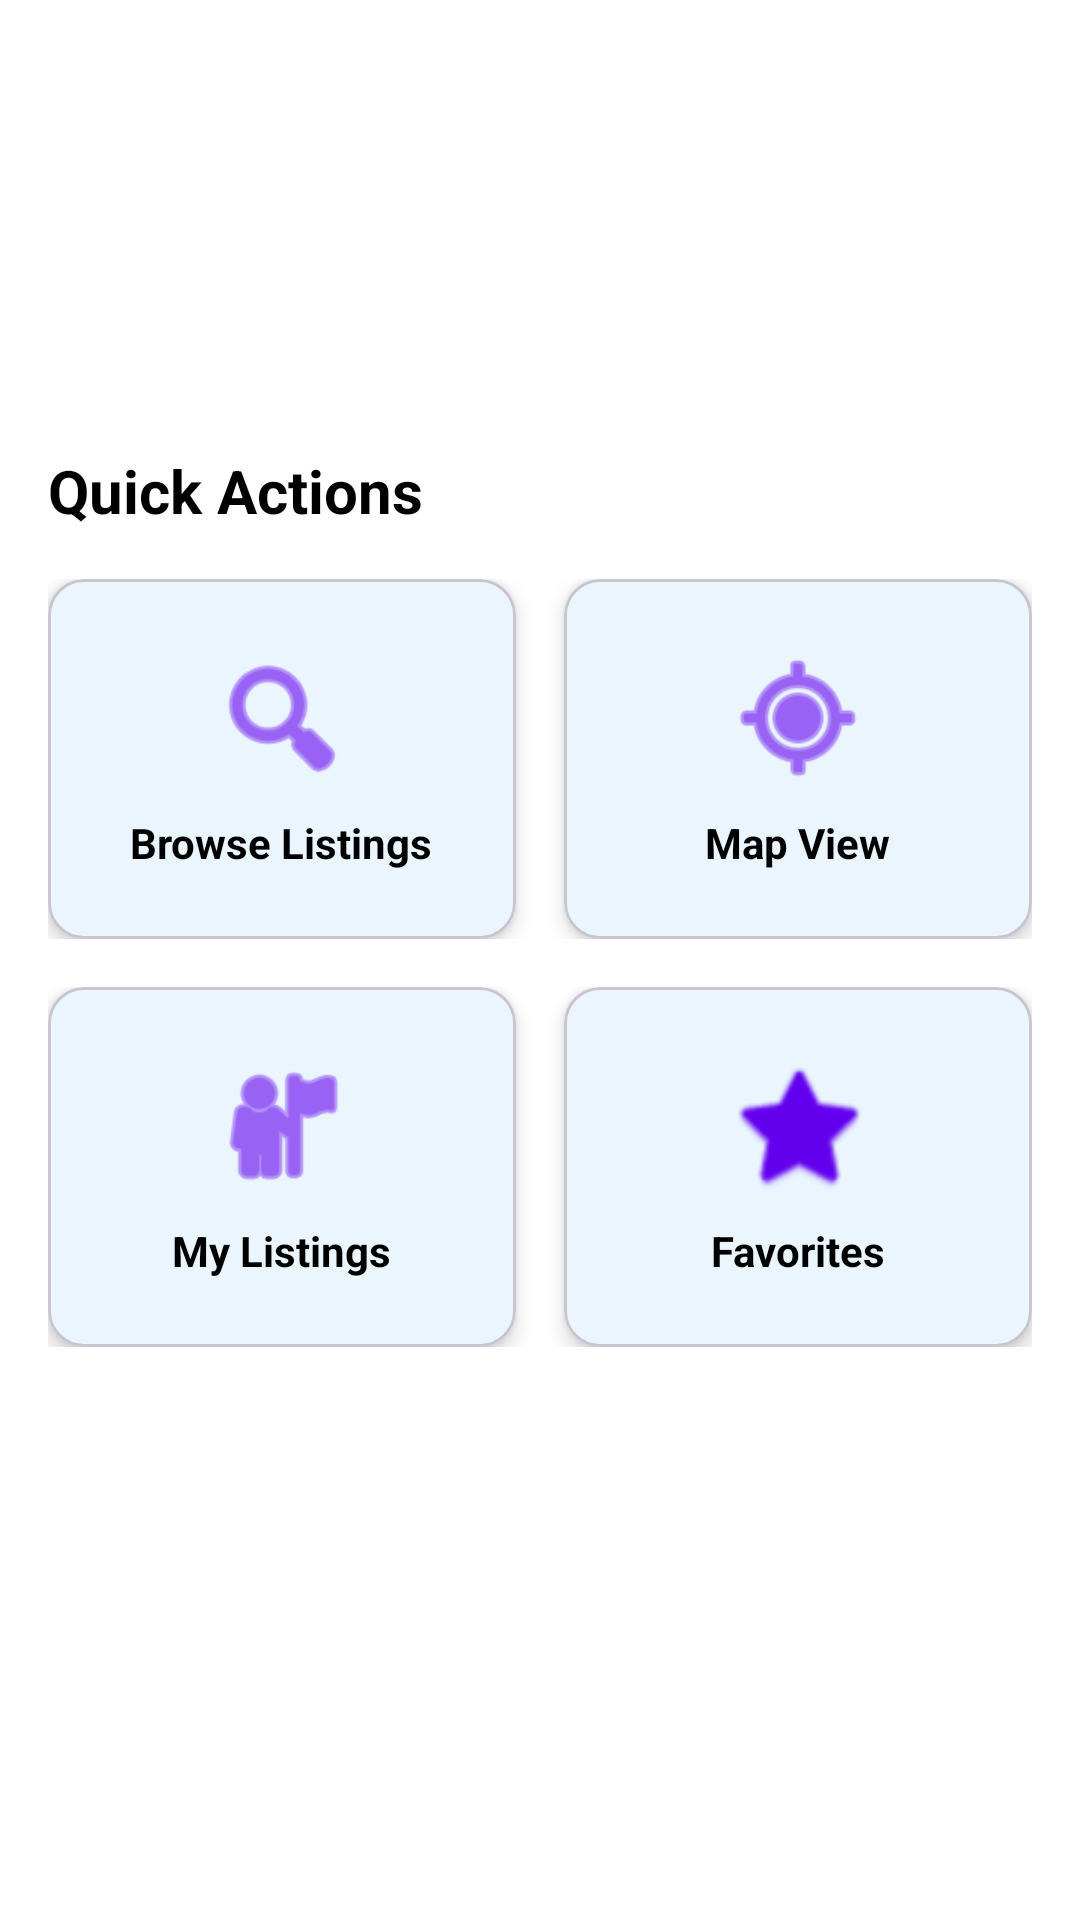

Point at icon controls on the screen. Image size 1080 x 1920, points as point (x, y).
mylocation: point (798, 718)
myplaces: point (283, 1126)
search: point (282, 718)
star: point (799, 1127)
